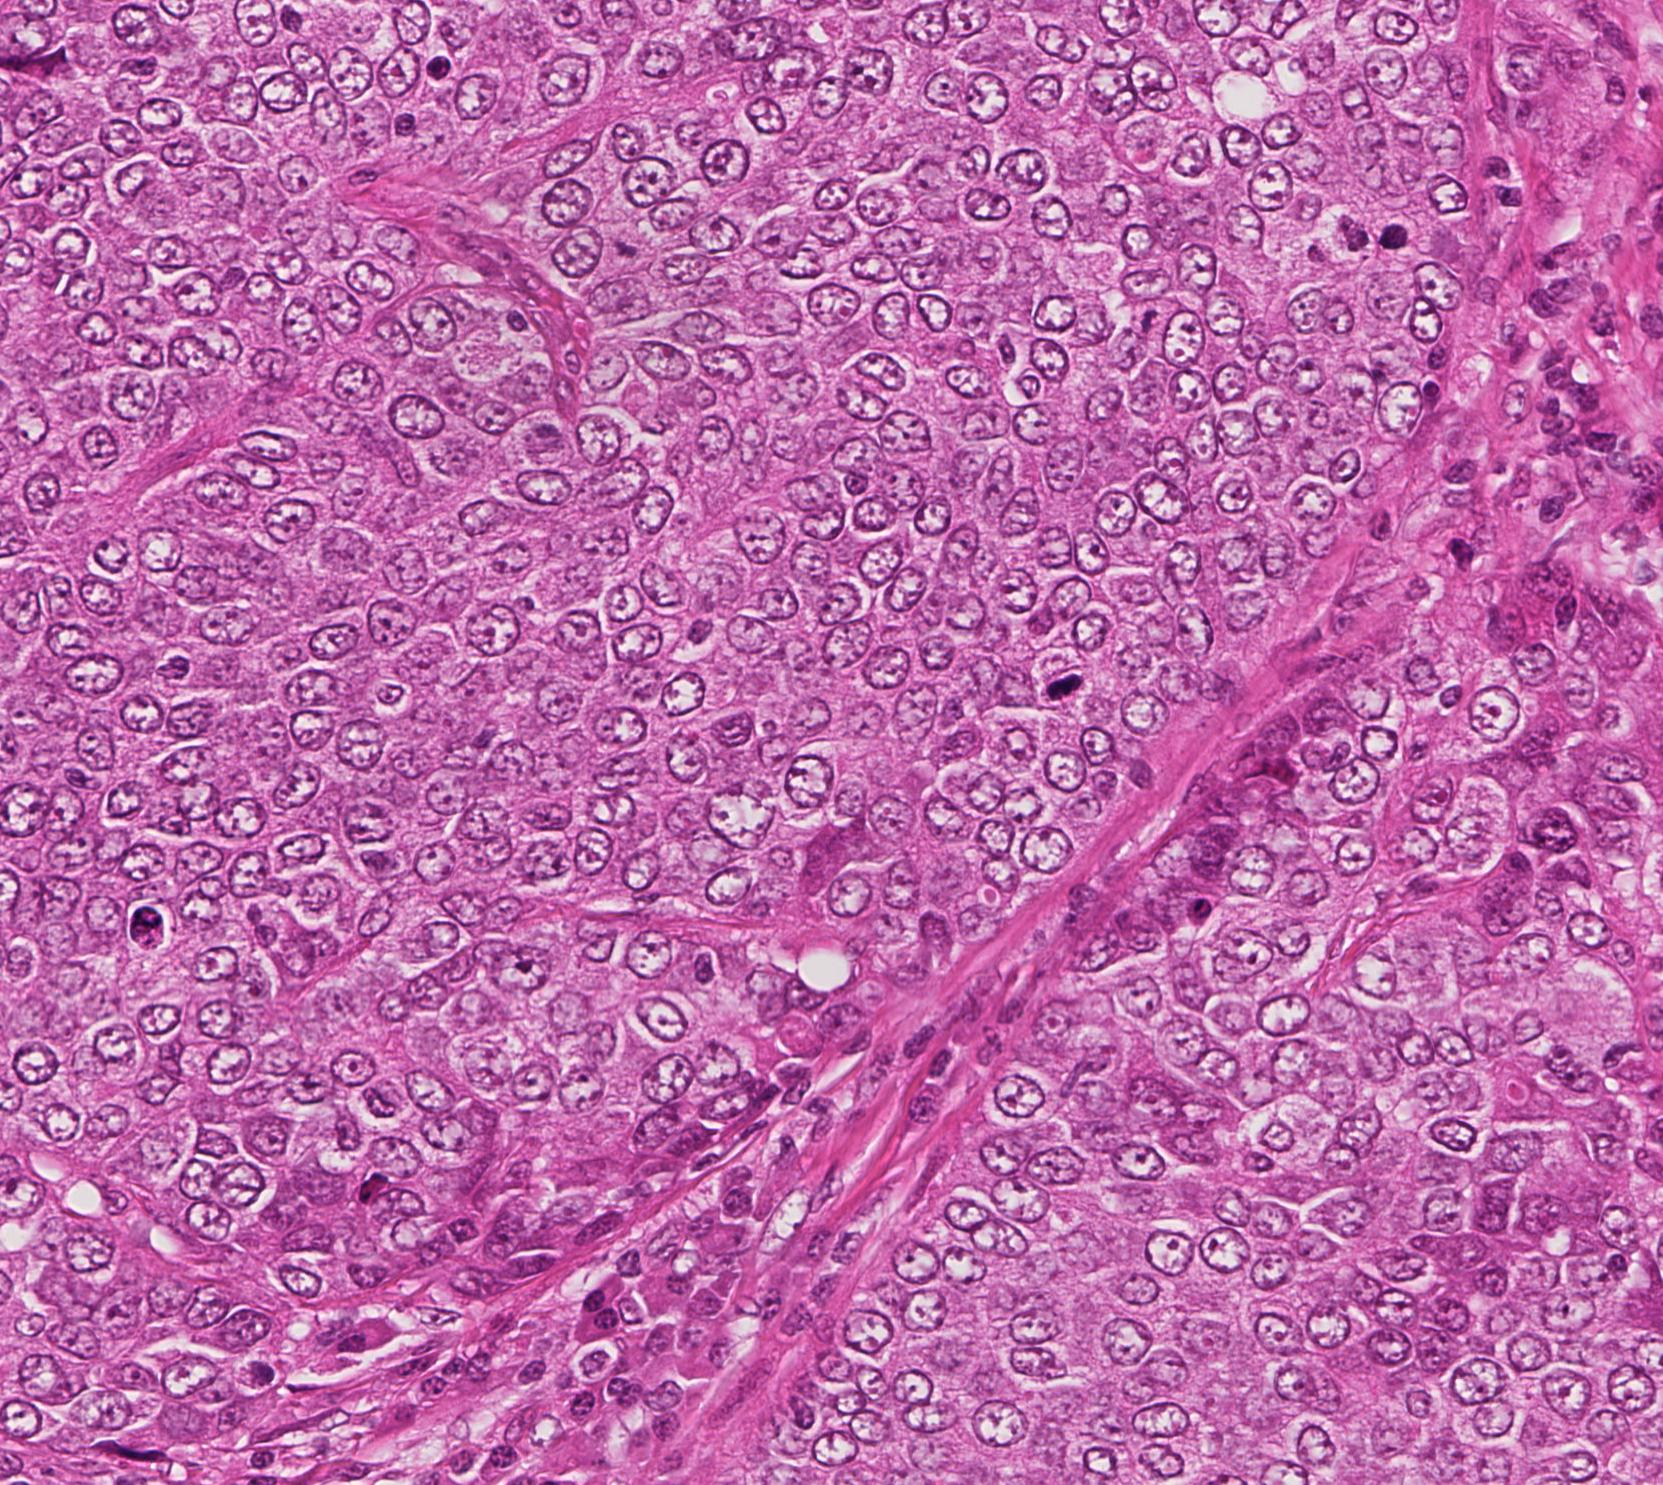mitosis: (1034, 658, 1094, 718), (1363, 201, 1424, 259)
